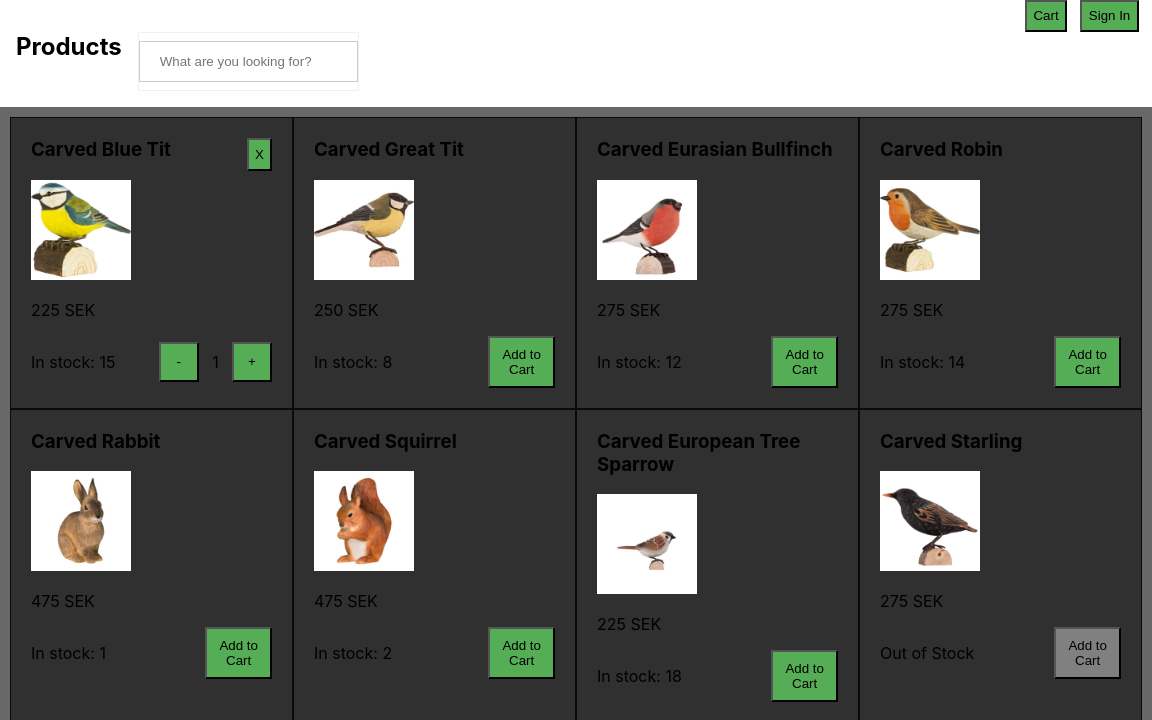
Scenario: ProductList component › adds more of the same product to cart
The image size is (1152, 720).
Click the button "Cart": (1046, 16) x1=1025 y1=0 x2=1067 y2=32
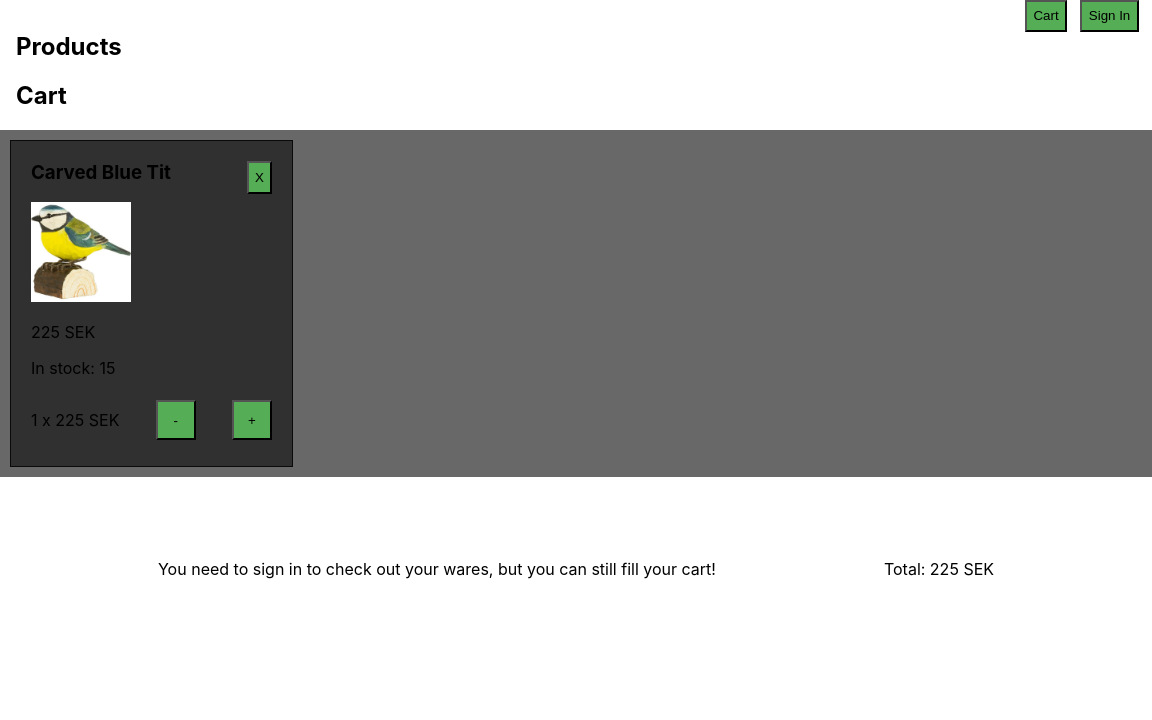
# Click the add product button twice, for a total of 3 products
Click the button "+": (252, 420) x1=232 y1=400 x2=272 y2=440
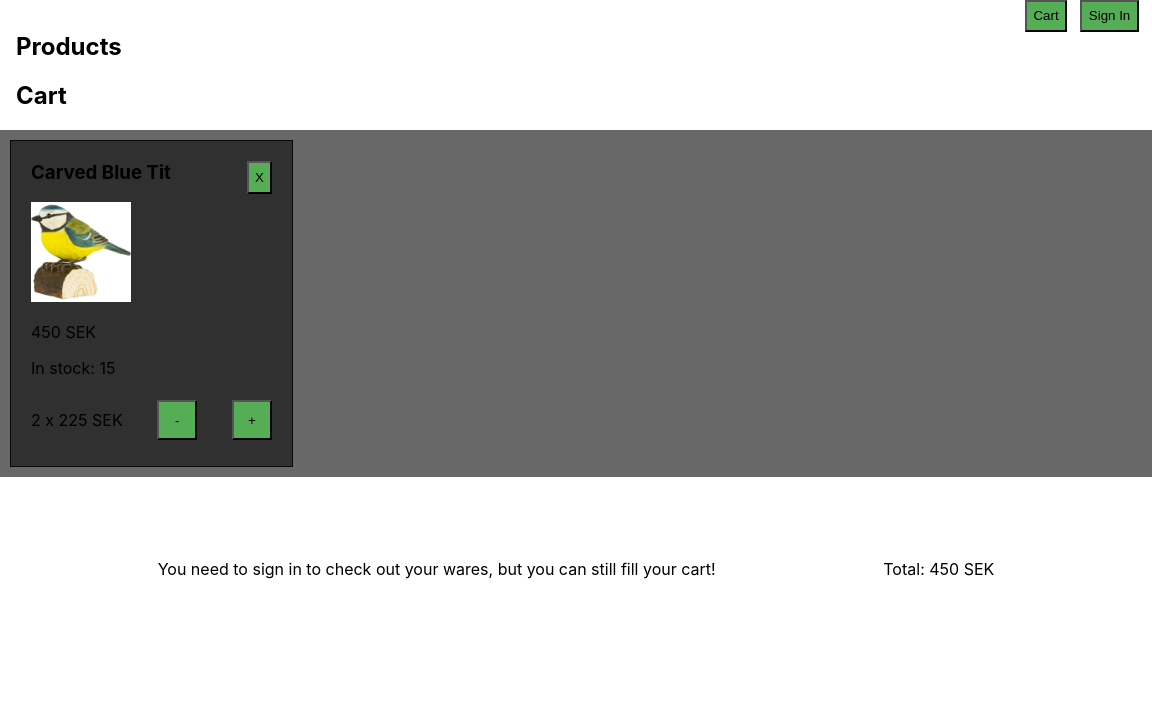
Click the button "+": (252, 420) x1=232 y1=400 x2=272 y2=440
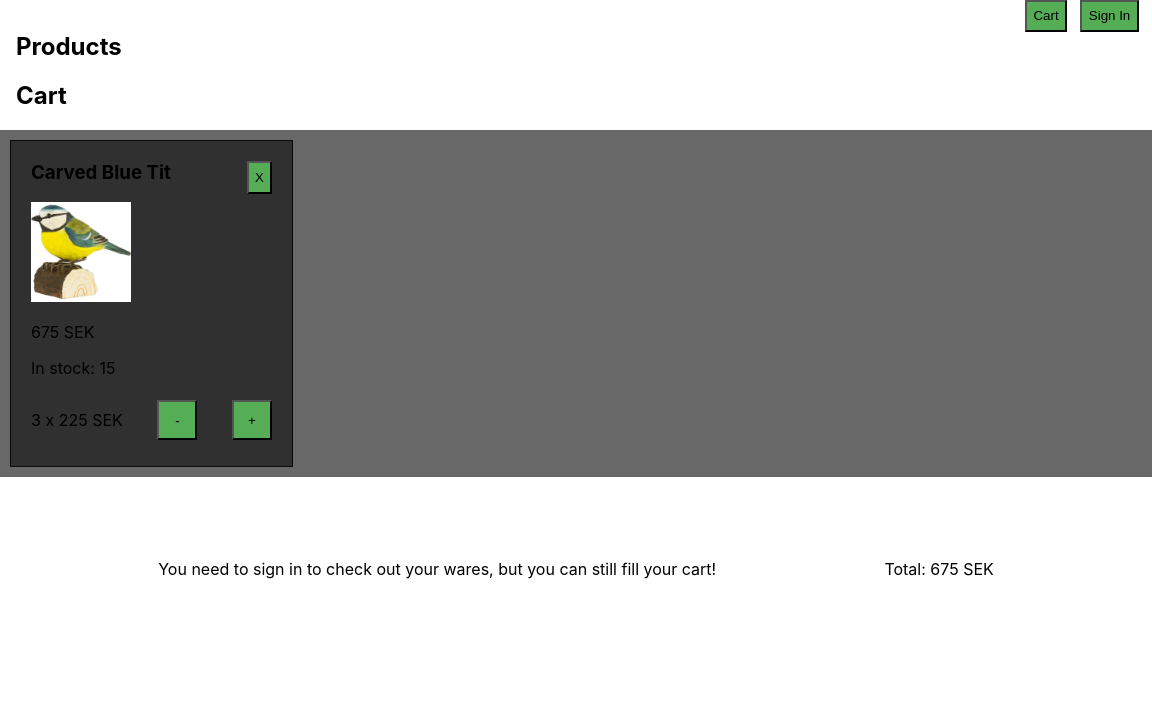
Expected: the text "3 x 225 SEK" is shown, x1=31 y1=410 x2=123 y2=430
